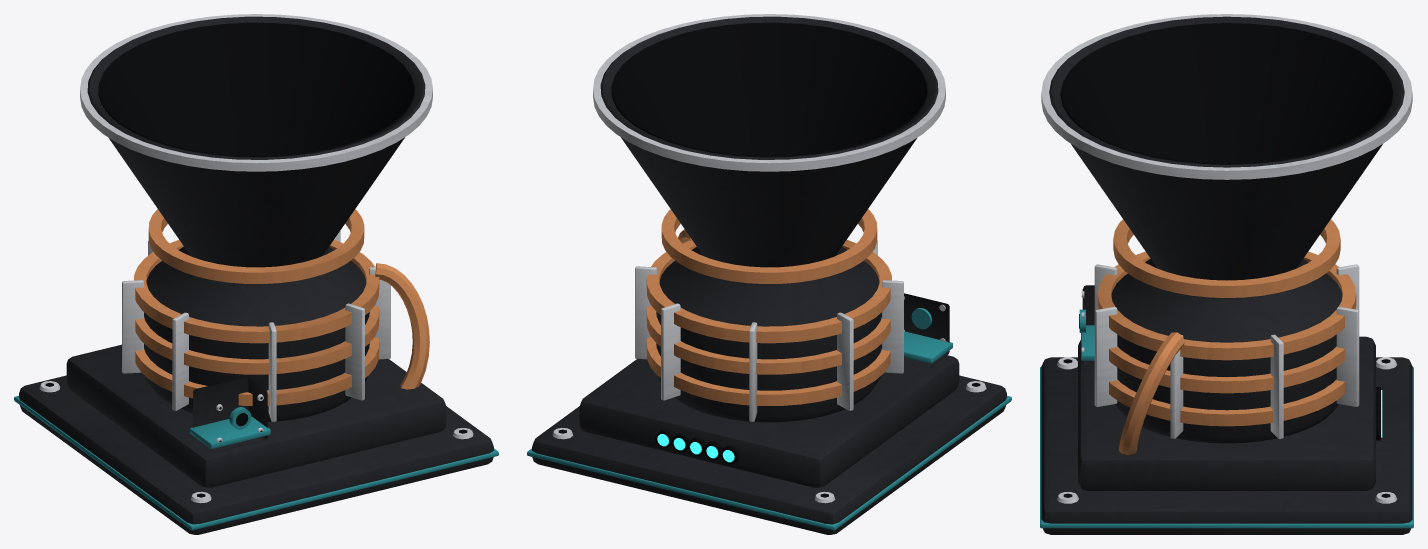
File: thruster_5.glb
3 views of the same model, side by side, from view 1: azimuth 30°, elevation 25°; view 2: azimuth 150°, elevation 25°; view 3: azimuth 270°, elevation 25° (orthographic). The views are drawn at different scales.
Visible parts, largest first — view 1: Body; view 2: Body; view 3: Body.
Boxes of the visible parts, box(x1,y1,x2,y2) form: Body: box(14, 14, 498, 534); Body: box(527, 14, 1011, 534); Body: box(1040, 14, 1413, 534).
Bounding box in the file's own units: 0.2256 × 0.246 × 0.2256.
7 materials, 3 textured.
